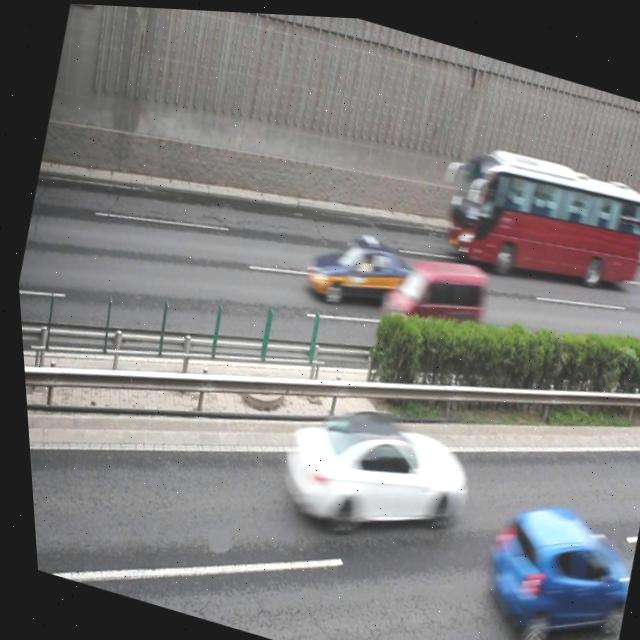car: (261, 388, 473, 556), (459, 485, 621, 640), (295, 215, 417, 319)
truck: (370, 240, 486, 356)
van: (431, 124, 640, 299)
